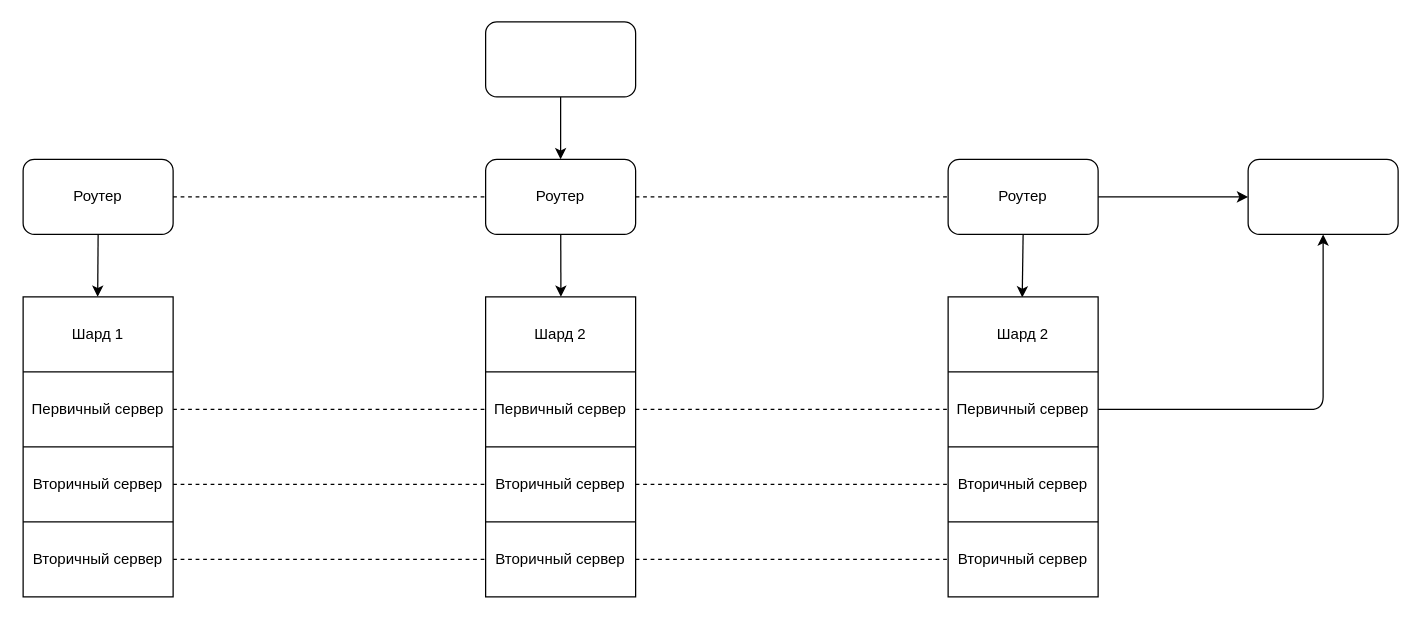
The diagram is 1420 pixels wide and 620 high, and some of its shapes have lost their labels. Here are the shapes that lost their labels. From the top down, the box of each, then its label:
(484, 21, 636, 97): pymongo-api
(1247, 158, 1398, 234): Конфигурационный сервер
